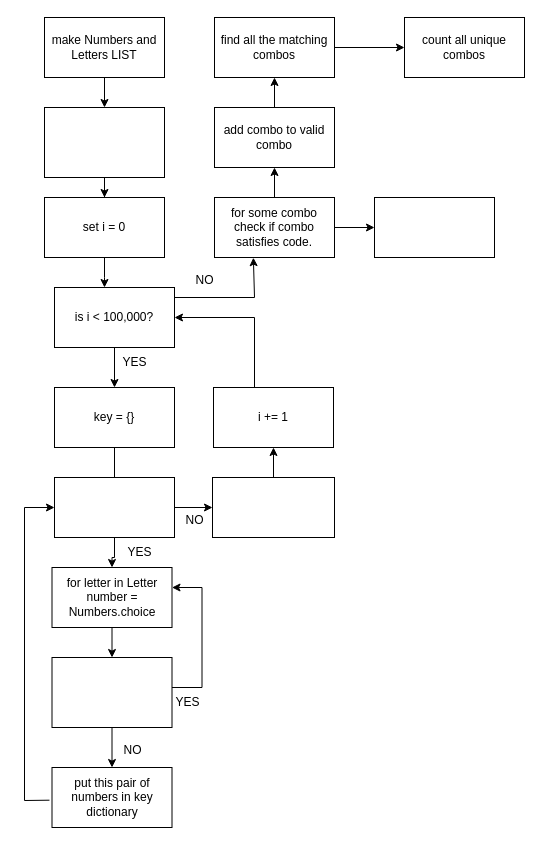
Image size: 542x845. Some labels were removed from this diagram. Each missing label, with the centre of its shape:
"add combo letter_number to combo" goes at point 273,507.
"create 2 list of dictionaries combo = [] create valid combo = []" goes at point 104,142.
"disgard word" goes at point 434,227.
"Is the length of len(key) < 10" goes at point 114,507.
"Is there a letter with this number?" goes at point 111,692.
